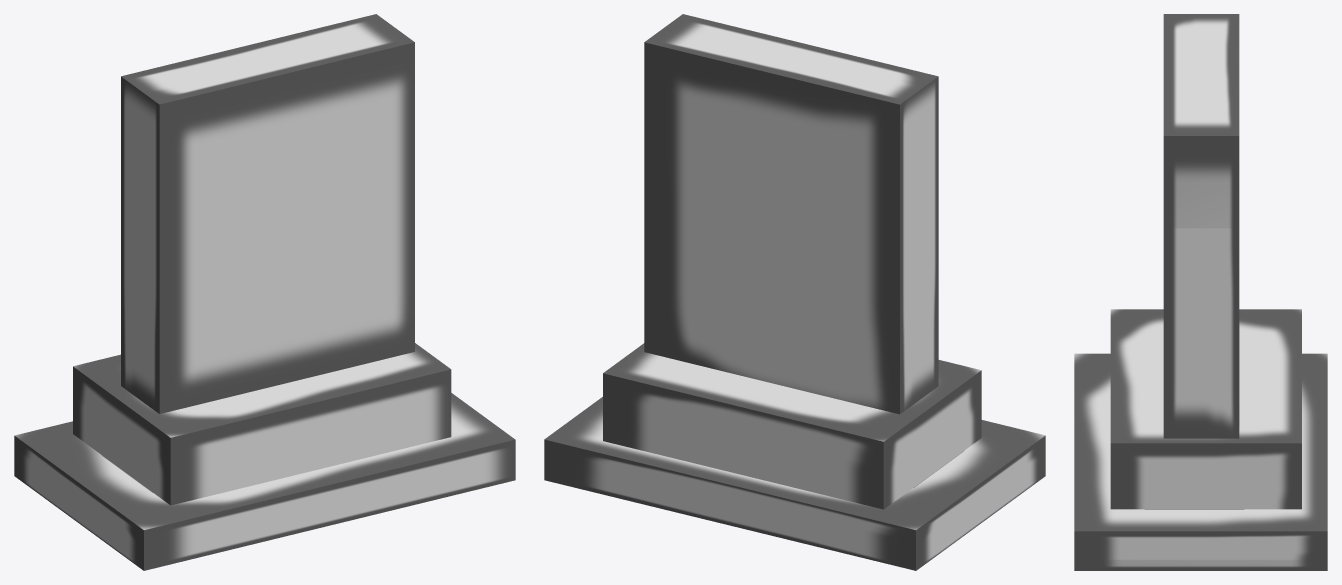
File: shit.glb
3 renders of one model, left to right at view 1: azimuth 30°, elevation 25°; view 2: azimuth 150°, elevation 25°; view 3: azimuth 270°, elevation 25°, orthographic. The views are drawn at different scales.
Visible parts, largest first — view 1: Куб; view 2: Куб; view 3: Куб.
Boxes of the visible parts, <box> form: Куб: <box>14,14,515,570</box>; Куб: <box>544,14,1045,570</box>; Куб: <box>1074,14,1327,570</box>.
Size of the model in its own units: 3.31 by 3.56 by 2.
1 material, 1 textured.
